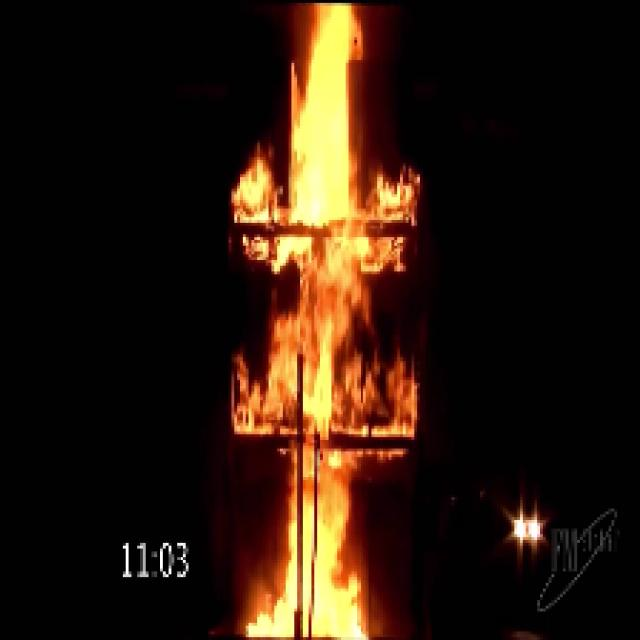fire: (263, 2, 367, 635)
